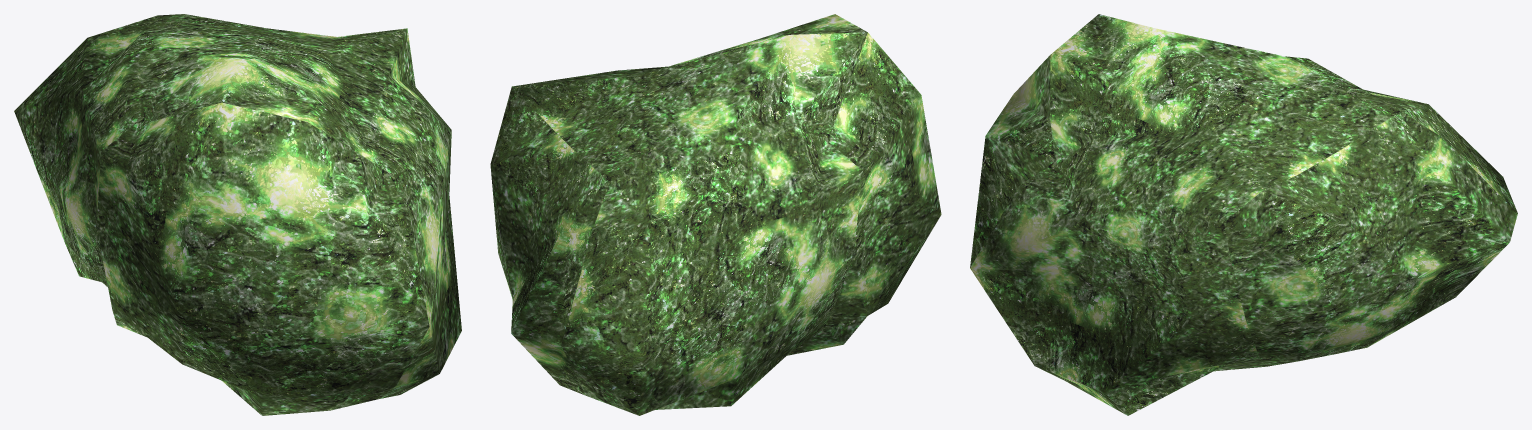
Rendered from asteroid_acid_radial_s02_l0.fbx.
3 renders of one model, left to right at view 1: azimuth 30°, elevation 25°; view 2: azimuth 150°, elevation 25°; view 3: azimuth 270°, elevation 25°, orthographic. The views are drawn at different scales.
Visible parts, largest first — view 1: mesh_node; view 2: mesh_node; view 3: mesh_node.
Part boxes in pixels (bbox=[...]): mesh_node: bbox=[14, 14, 461, 415]; mesh_node: bbox=[490, 14, 941, 415]; mesh_node: bbox=[970, 14, 1517, 415].
Bounding box in the file's own units: 4.38 × 4.14 × 6.61.
